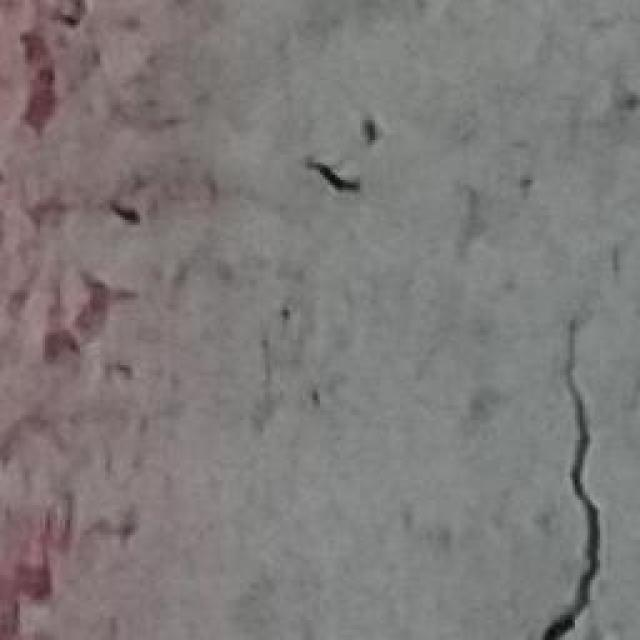Longitudinal: (516, 222, 640, 640)
